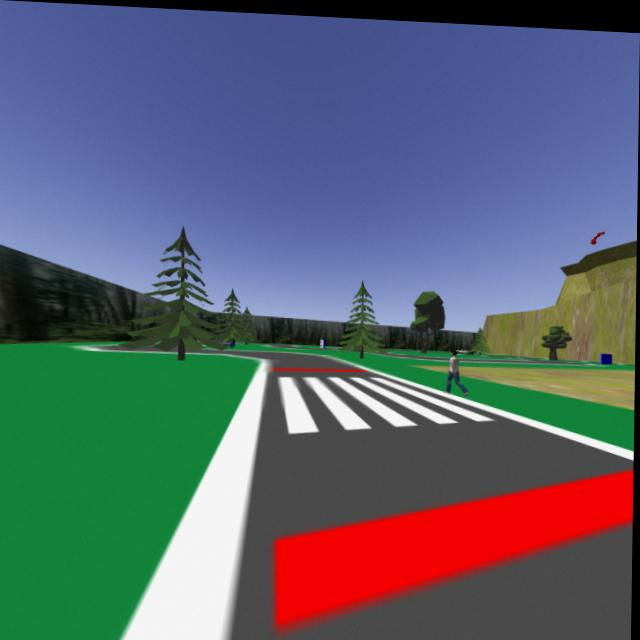pedestrian: (443, 348, 470, 399)
